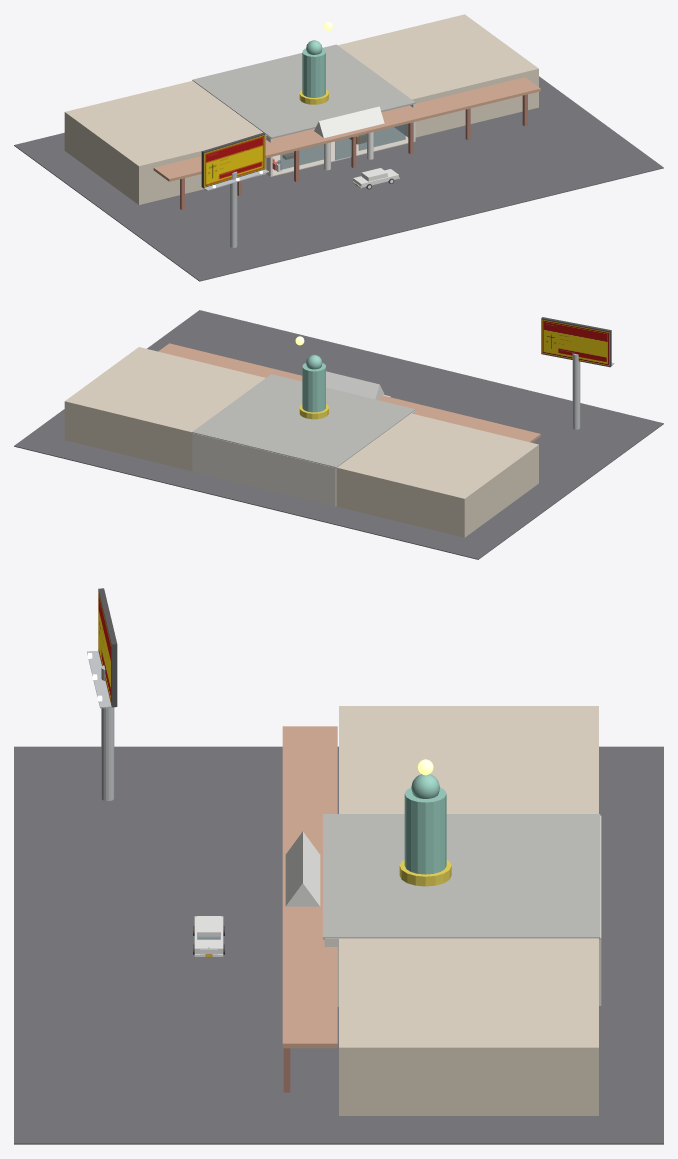
File: saul_goodman_office.glb
3 renders of one model, top to bottom at view 1: azimuth 30°, elevation 25°; view 2: azimuth 150°, elevation 25°; view 3: azimuth 270°, elevation 25°, orthographic. The views are drawn at different scales.
Parts seen in each view (by area): view 1: Saul_Goodman_Office_lot, Saul_Goodman_Office_mall_l, Saul_Goodman_Office_mall_r, Saul_Goodman_Office_roof_center, Saul_Goodman_Office_colonnade, Saul_Goodman_Office_billboard_face_f, Saul_Goodman_Office_floor, Saul_Goodman_Office_pediment, Saul_Goodman_Office_inflat_body, Saul_Goodman_Office, Saul_Goodman_Office_win_r, Saul_Goodman_Office_win_l (+2 smaller); view 2: Saul_Goodman_Office_lot, Saul_Goodman_Office_mall_l, Saul_Goodman_Office_mall_r, Saul_Goodman_Office_roof_center, Saul_Goodman_Office_w_back, Saul_Goodman_Office_colonnade, Saul_Goodman_Office_billboard_face_b, Saul_Goodman_Office_inflat_body, Saul_Goodman_Office_pediment, Saul_Goodman_Office_billboard_pole, Saul_Goodman_Office_billboard_frame; view 3: Saul_Goodman_Office_lot, Saul_Goodman_Office_mall_r, Saul_Goodman_Office_roof_center, Saul_Goodman_Office_mall_l, Saul_Goodman_Office_colonnade, Saul_Goodman_Office_inflat_body, Saul_Goodman_Office_pediment, Saul_Goodman_Office_billboard_pole, Saul_Goodman_Office_billboard_frame, Saul_Goodman_Office_billboard_face_f.
Boxes of the visible parts, box(x1,y1,x2,y2) form: Saul_Goodman_Office_lot: box(14, 76, 663, 281); Saul_Goodman_Office_mall_l: box(64, 81, 266, 204); Saul_Goodman_Office_mall_r: box(338, 14, 538, 137); Saul_Goodman_Office_roof_center: box(192, 44, 415, 138); Saul_Goodman_Office_colonnade: box(153, 77, 540, 181); Saul_Goodman_Office_billboard_face_f: box(204, 135, 264, 186); Saul_Goodman_Office_floor: box(272, 127, 414, 176); Saul_Goodman_Office_pediment: box(314, 106, 384, 137); Saul_Goodman_Office_inflat_body: box(302, 48, 325, 97); Saul_Goodman_Office: box(351, 94, 527, 168); Saul_Goodman_Office_win_r: box(358, 124, 405, 150); Saul_Goodman_Office_win_l: box(280, 144, 323, 169); Saul_Goodman_Office_lot: box(14, 310, 663, 559); Saul_Goodman_Office_mall_l: box(336, 413, 538, 537); Saul_Goodman_Office_mall_r: box(64, 347, 265, 470); Saul_Goodman_Office_roof_center: box(192, 374, 415, 468); Saul_Goodman_Office_w_back: box(192, 433, 336, 506); Saul_Goodman_Office_colonnade: box(158, 343, 540, 442); Saul_Goodman_Office_billboard_face_b: box(542, 319, 609, 365); Saul_Goodman_Office_inflat_body: box(302, 363, 325, 412); Saul_Goodman_Office_pediment: box(326, 371, 384, 399); Saul_Goodman_Office_billboard_pole: box(572, 353, 580, 429); Saul_Goodman_Office_billboard_frame: box(541, 317, 611, 367); Saul_Goodman_Office_lot: box(14, 746, 663, 1144); Saul_Goodman_Office_mall_r: box(339, 938, 598, 1115); Saul_Goodman_Office_roof_center: box(323, 814, 600, 939); Saul_Goodman_Office_mall_l: box(339, 706, 598, 813); Saul_Goodman_Office_colonnade: box(282, 726, 337, 1048); Saul_Goodman_Office_inflat_body: box(404, 787, 446, 874); Saul_Goodman_Office_pediment: box(285, 831, 320, 906); Saul_Goodman_Office_billboard_pole: box(101, 665, 114, 800); Saul_Goodman_Office_billboard_frame: box(98, 588, 117, 707); Saul_Goodman_Office_billboard_face_f: box(98, 592, 111, 703).
Size of what is drawn, in the model's own units: 65 by 15.15 by 45.
30 materials, 5 textured.
